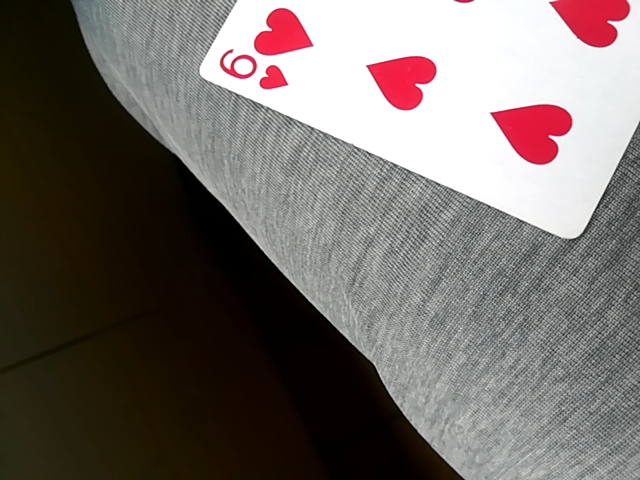hx 6: (191, 1, 640, 243)
